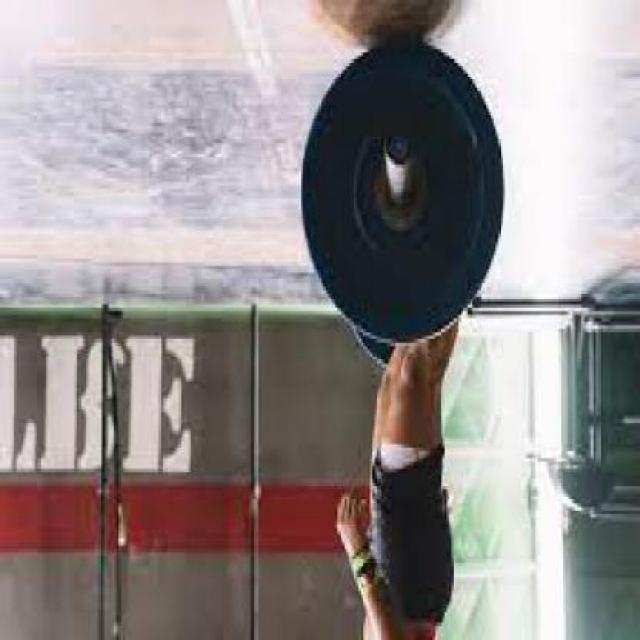Barbell: (384, 127, 414, 170)
